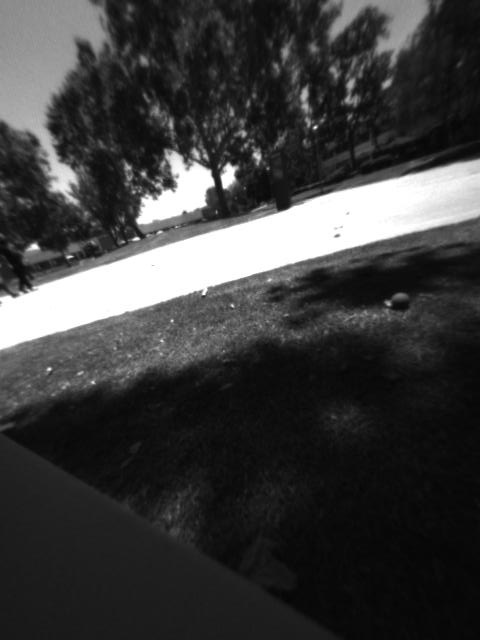dogtoy: (385, 285, 414, 316)
